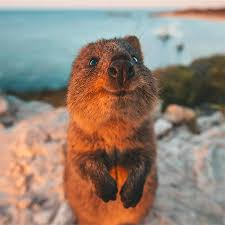quokka: (49, 27, 172, 225)
